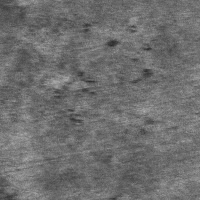rolled-in_scale: (92, 61, 157, 128), (36, 21, 95, 89)
